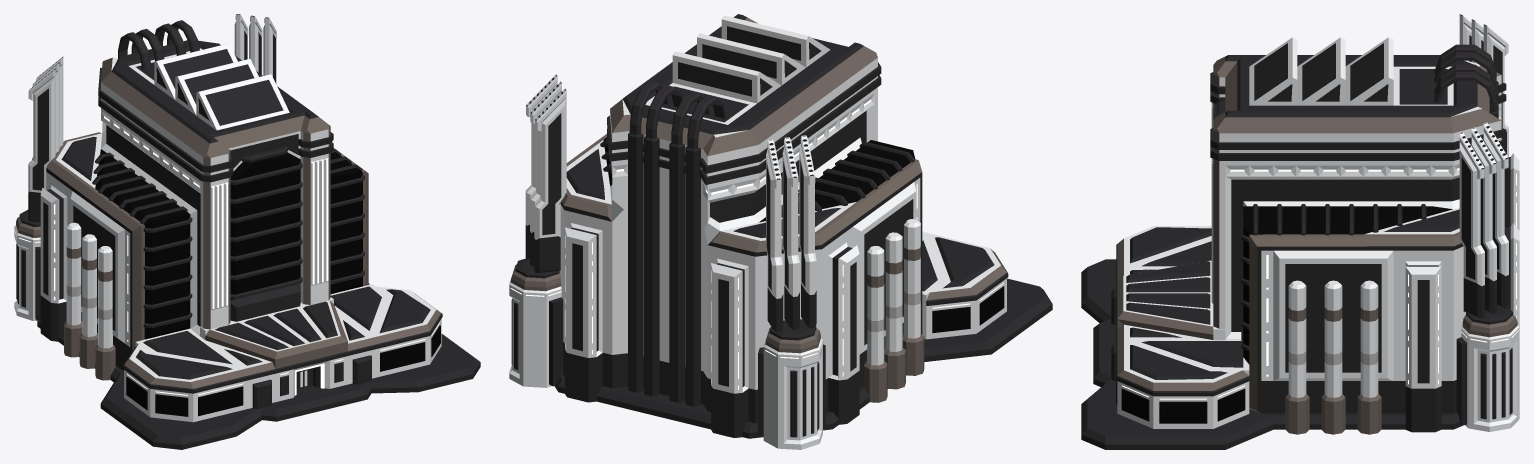
The model's file is gourmet_factory.glb.
3 views of the same model, side by side, from view 1: azimuth 30°, elevation 25°; view 2: azimuth 150°, elevation 25°; view 3: azimuth 270°, elevation 25° (orthographic). The views are drawn at different scales.
Parts seen in each view (by area): view 1: GourmetFactory_BigBody, GourmetFactory_Body, GourmetFactory_Parts, GourmetFactory_Foundation, GourmetFactory_Chimney; view 2: GourmetFactory_BigBody, GourmetFactory_Parts, GourmetFactory_Chimney, GourmetFactory_Body, GourmetFactory_Foundation; view 3: GourmetFactory_BigBody, GourmetFactory_Body, GourmetFactory_Parts, GourmetFactory_Foundation, GourmetFactory_Chimney.
Boxes of the visible parts, box(x1,y1,x2,y2) form: GourmetFactory_BigBody: box(14, 40, 368, 370); GourmetFactory_Body: box(123, 284, 442, 422); GourmetFactory_Parts: box(64, 20, 369, 380); GourmetFactory_Foundation: box(37, 317, 480, 449); GourmetFactory_Chimney: box(28, 14, 276, 222); GourmetFactory_BigBody: box(509, 14, 922, 449); GourmetFactory_Parts: box(600, 62, 924, 406); GourmetFactory_Chimney: box(525, 74, 816, 332); GourmetFactory_Body: box(922, 231, 1008, 339); GourmetFactory_Foundation: box(554, 278, 1052, 438); GourmetFactory_BigBody: box(1211, 37, 1519, 432); GourmetFactory_Body: box(1111, 226, 1249, 428); GourmetFactory_Parts: box(1210, 44, 1506, 434); GourmetFactory_Foundation: box(1081, 259, 1462, 449); GourmetFactory_Chimney: box(1459, 14, 1508, 318).
Size of the model in its own units: 3600 by 2770 by 3650.
1 material, 1 textured.
